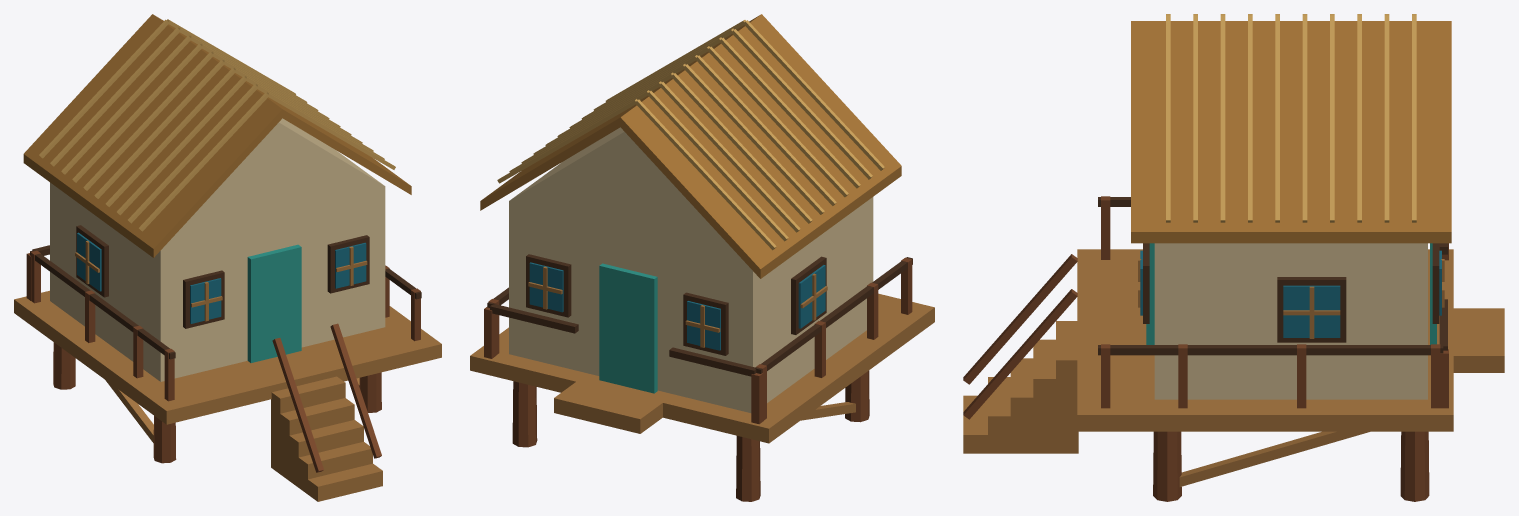
The model's file is Tropical_StiltHut_Standard.glb.
3 views of the same model, side by side, from view 1: azimuth 30°, elevation 25°; view 2: azimuth 150°, elevation 25°; view 3: azimuth 270°, elevation 25° (orthographic). The views are drawn at different scales.
Parts seen in each view (by area): view 1: Tropical_StiltHut_Standard; view 2: Tropical_StiltHut_Standard; view 3: Tropical_StiltHut_Standard.
Boxes of the visible parts, <box> form: Tropical_StiltHut_Standard: <box>14,14,441,501</box>; Tropical_StiltHut_Standard: <box>470,14,934,501</box>; Tropical_StiltHut_Standard: <box>963,14,1504,501</box>.
Size of the model in its own units: 3.8 by 4.49 by 5.25.
